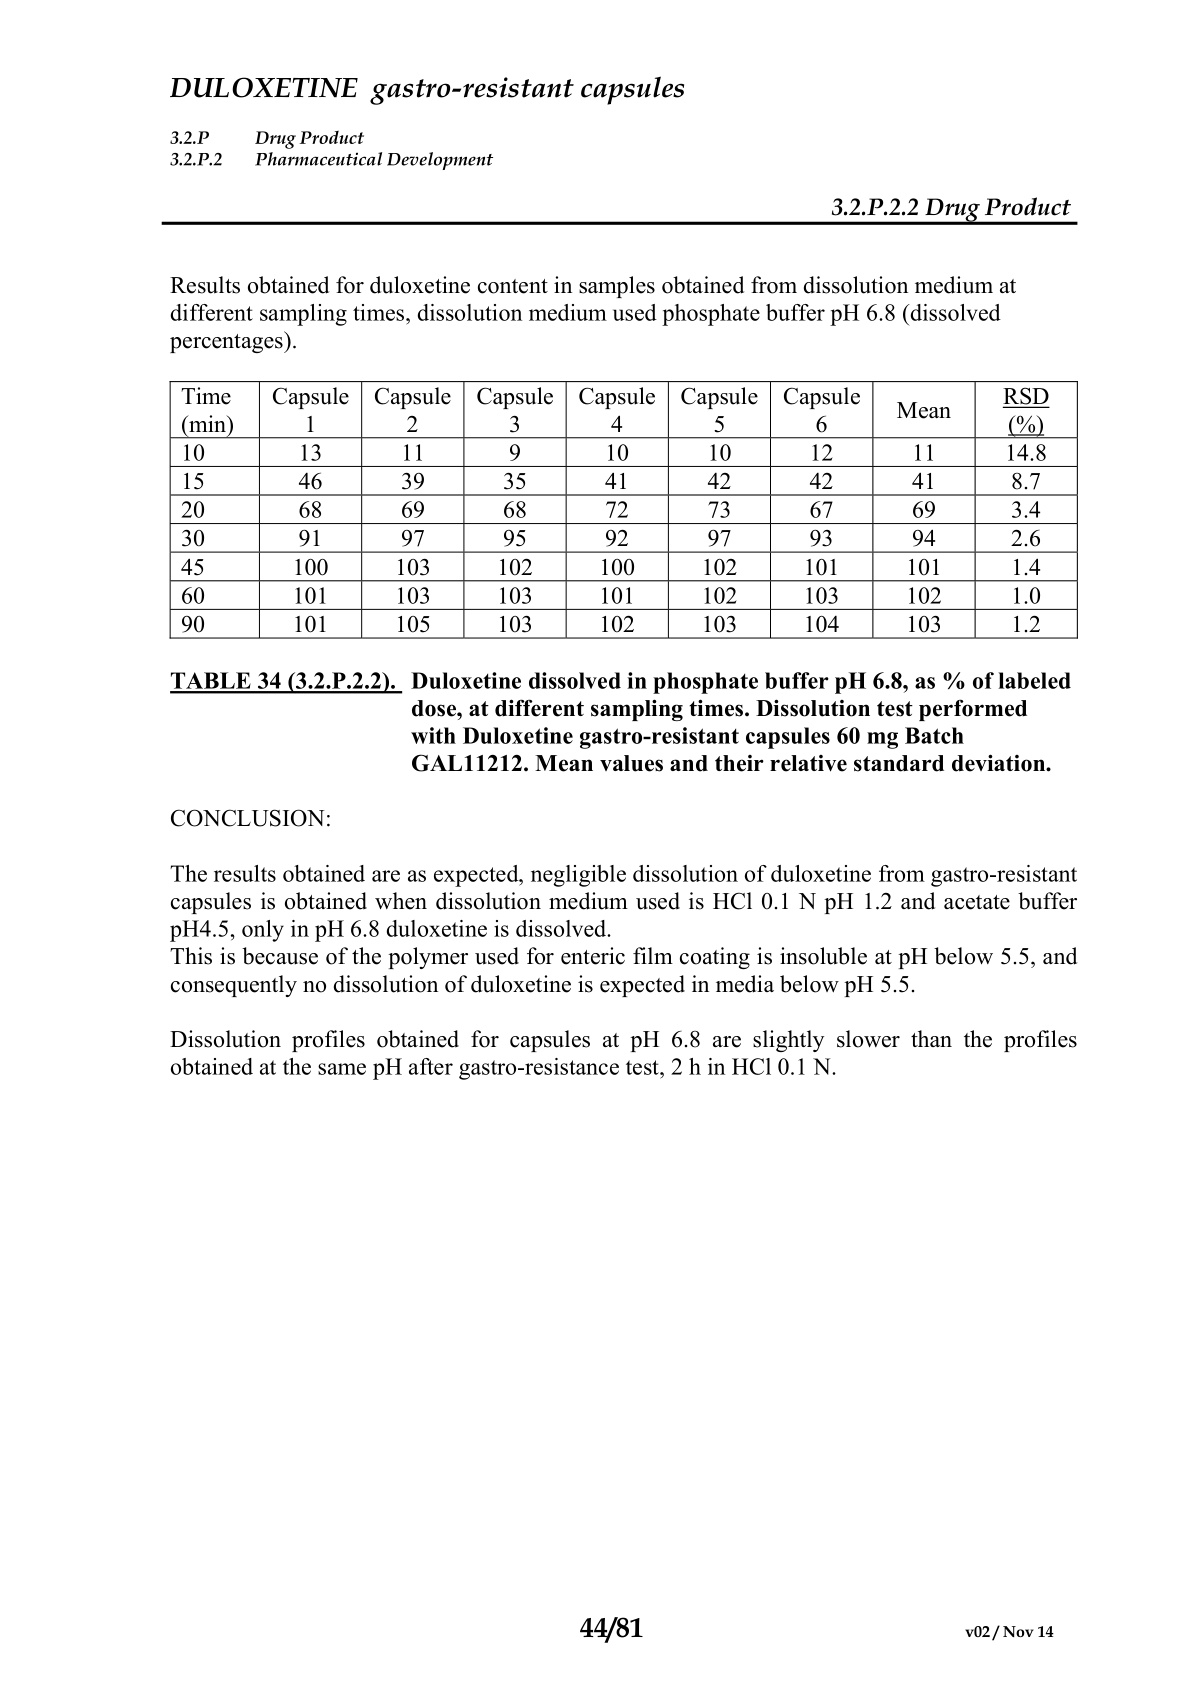full_lined: (169, 380, 1079, 639)
